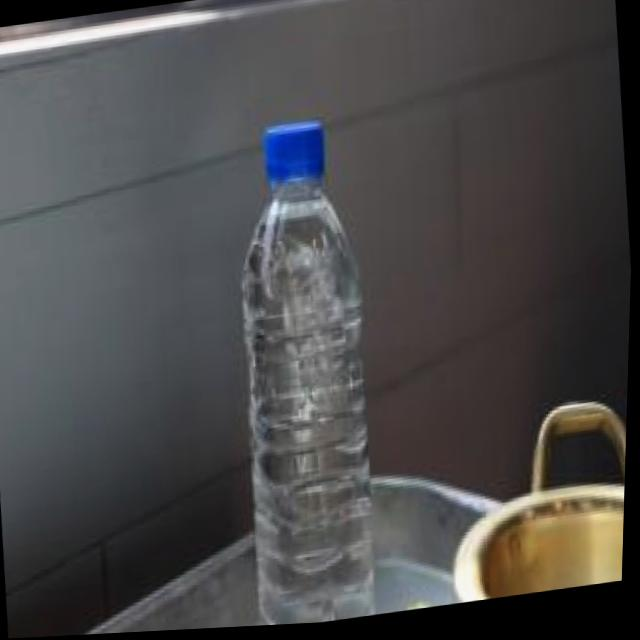anorganik: (215, 108, 421, 631)
